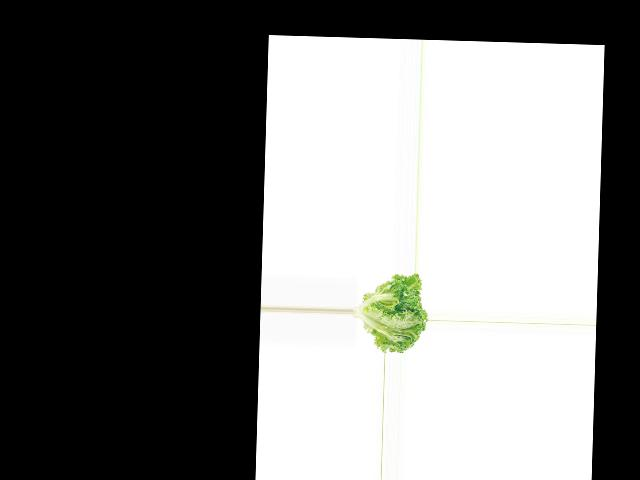lettuce: (351, 272, 428, 354)
